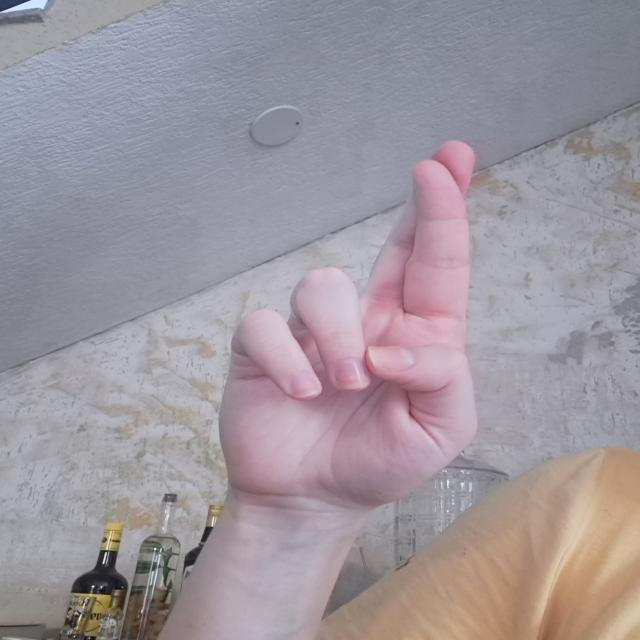R: (204, 129, 494, 522)
